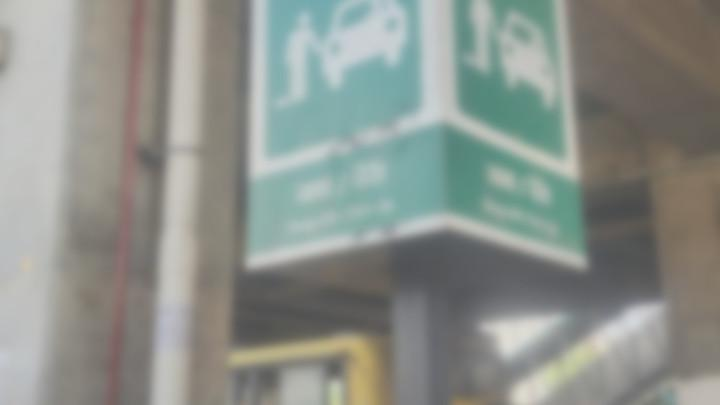Metro Dorp Up Pick up: (242, 0, 589, 286)
